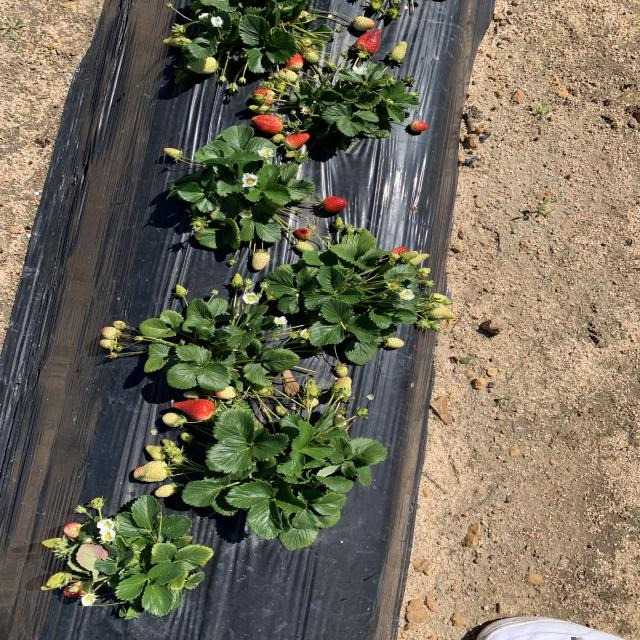unripe: (172, 399, 215, 421), (355, 29, 383, 55), (250, 115, 284, 133), (63, 580, 91, 596), (320, 195, 346, 212), (284, 133, 310, 148), (252, 88, 276, 104), (284, 49, 303, 68), (391, 246, 410, 259), (294, 228, 314, 240), (410, 122, 429, 132)
